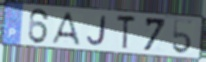5: (171, 17, 197, 56)
6: (27, 8, 50, 45)
7: (141, 17, 168, 53)
A: (50, 11, 83, 47)
J: (86, 15, 108, 47)
T: (116, 14, 138, 52)
